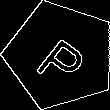P_NE: (29, 24, 92, 87)
